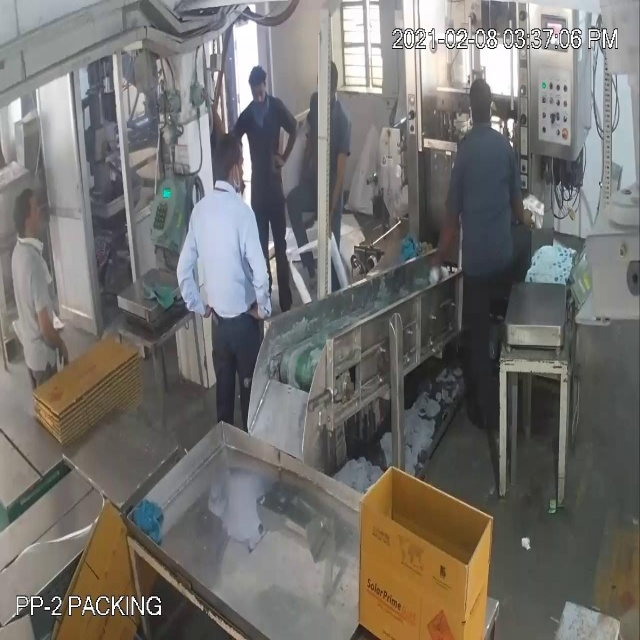Sin_guantes: (156, 231, 213, 329), (244, 209, 275, 342), (33, 292, 77, 369), (428, 198, 461, 278), (276, 109, 300, 172)
